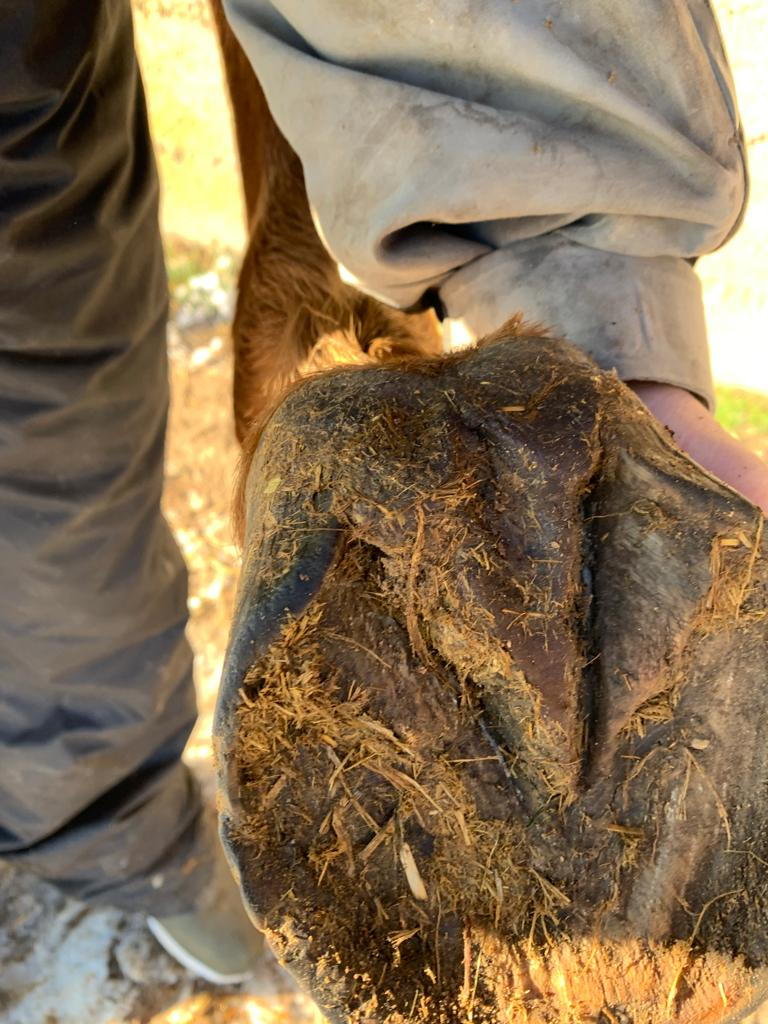horsesole: (213, 439, 768, 1024)
